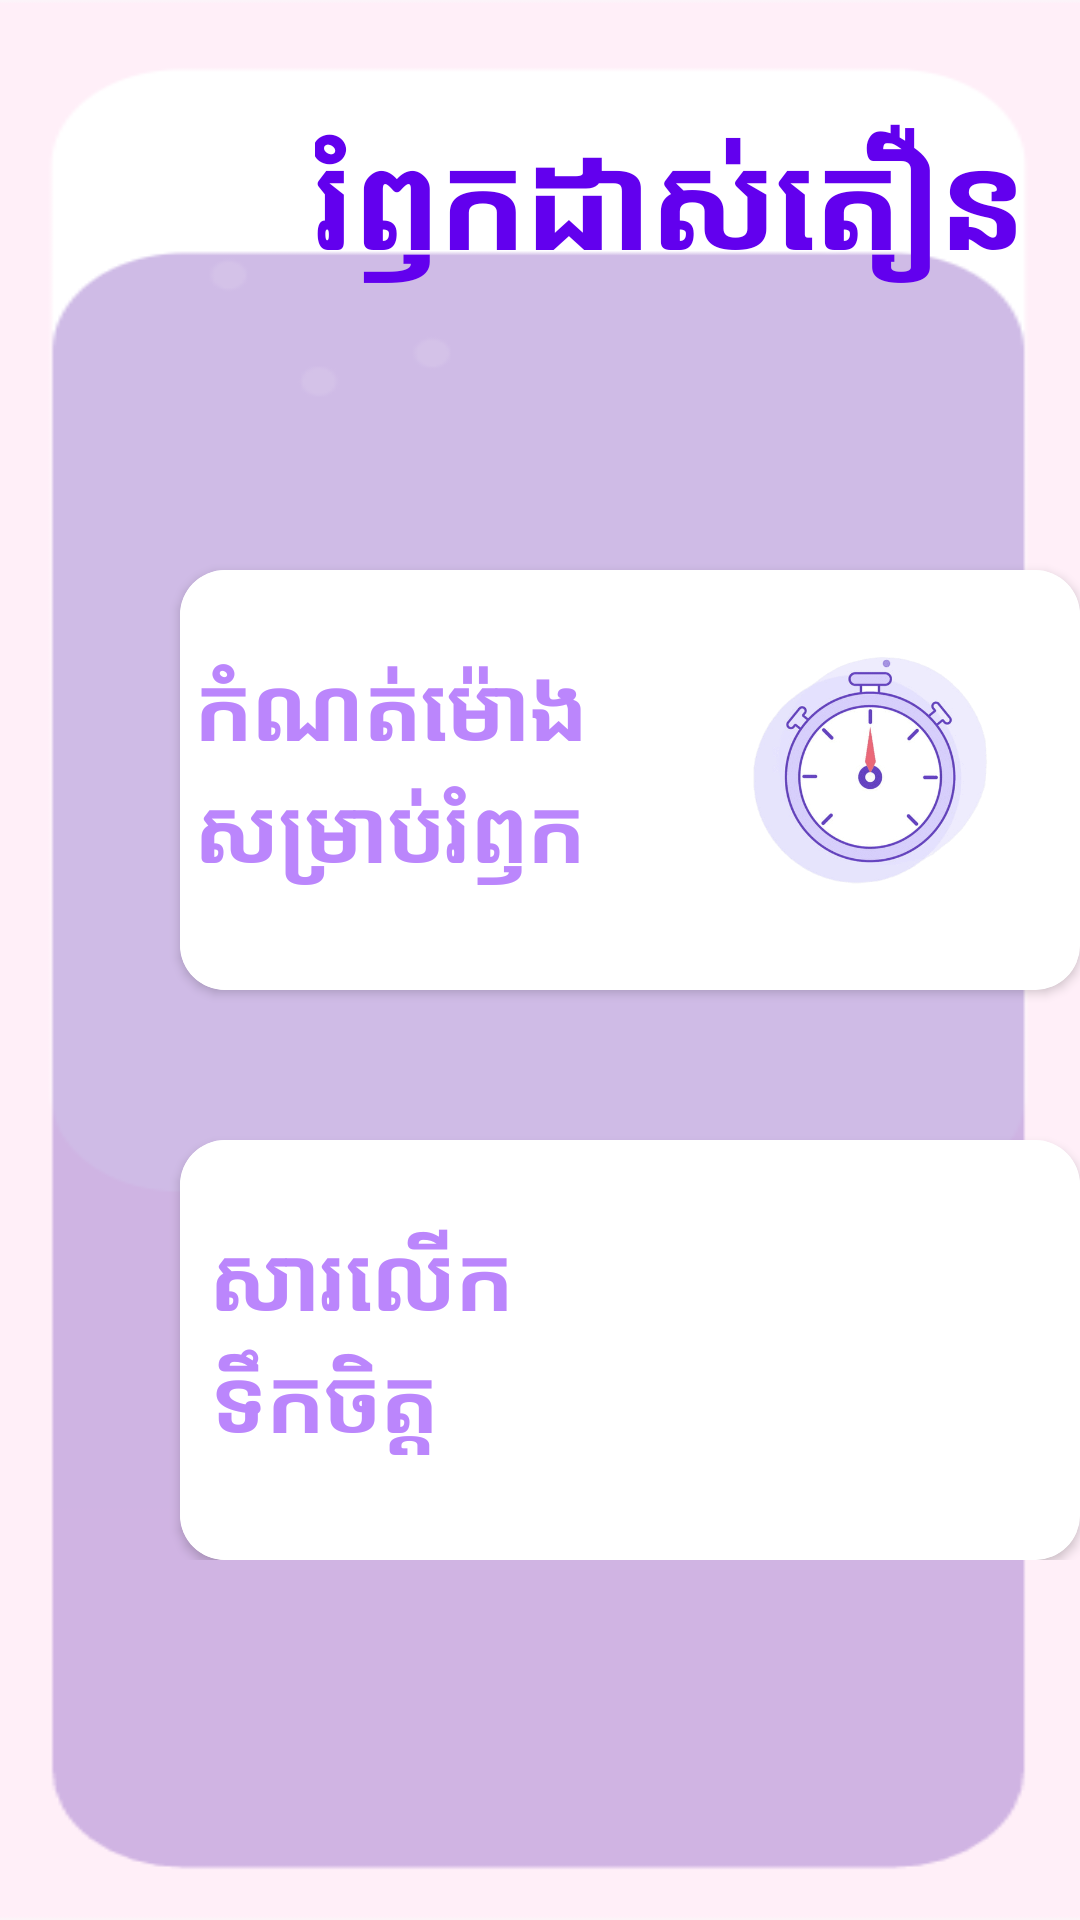

Icons on this 1080px x 1920px Android screen, each with its box as rect(x1, y1, x2, y2):
timer: rect(754, 658, 981, 882)
